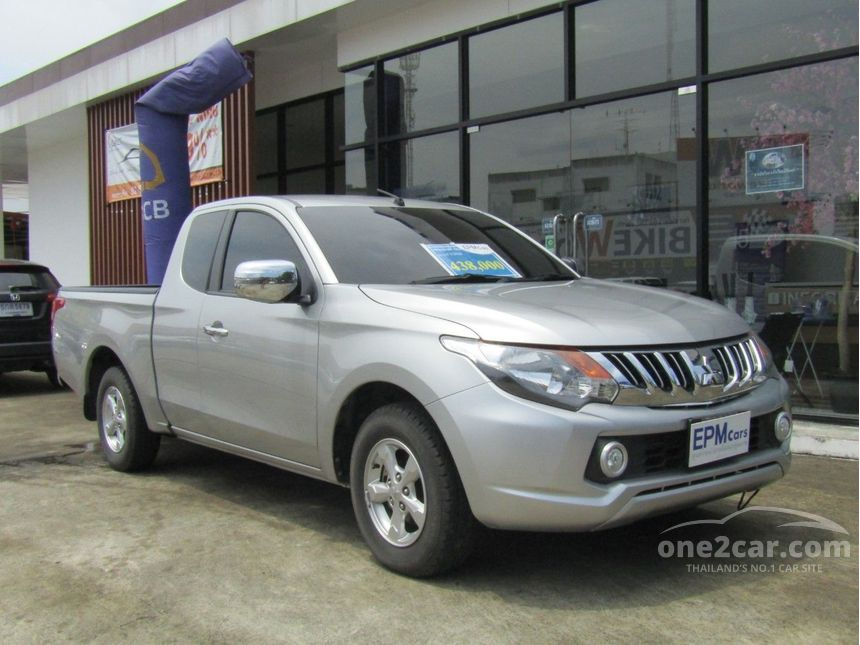pickup: (45, 187, 798, 582)
